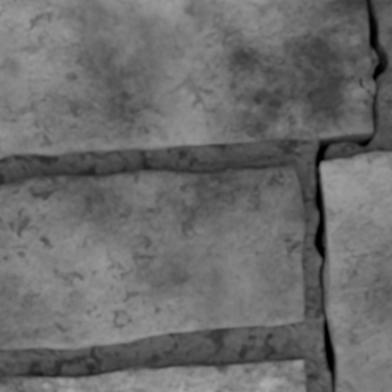brick: (0, 0, 371, 157), (0, 166, 304, 347), (322, 151, 391, 391), (0, 358, 304, 391), (371, 84, 374, 92)
crack: (313, 0, 391, 391)
